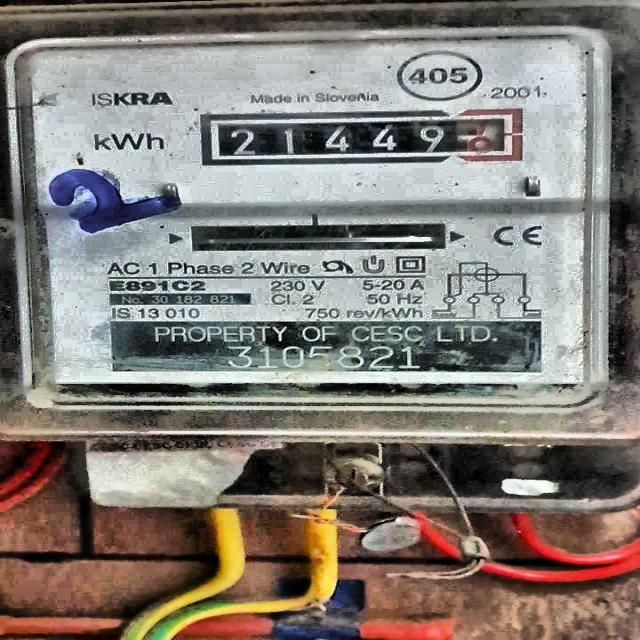Analog: (4, 7, 640, 451)
Reading: (213, 123, 524, 158)
Serial No.: (226, 342, 426, 370)
